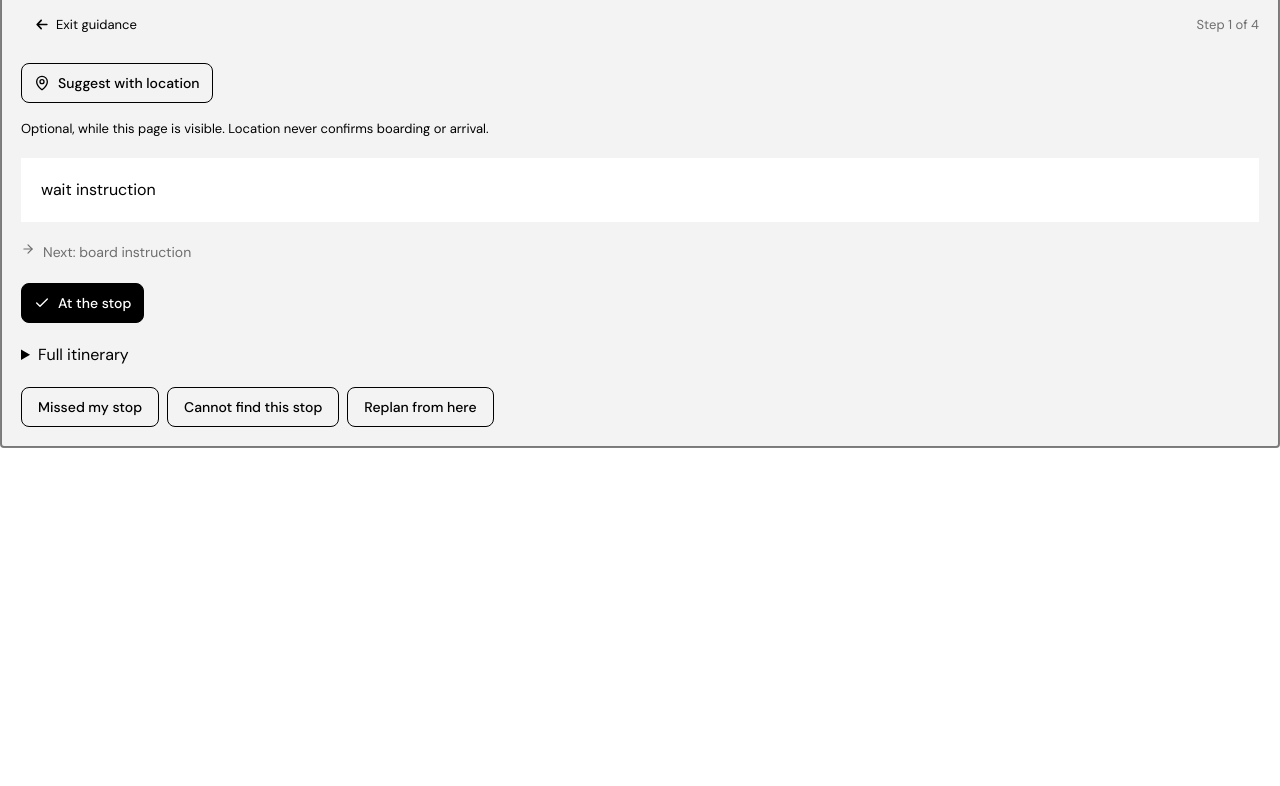
Test: Passenger-controlled guidance › does not move progress or fabricate a position after a missed stop
The width and height of the screenshot is (1280, 786).
Click the button "Missed my stop" at [90, 407], box [21, 387, 159, 427]
(page scrolled)
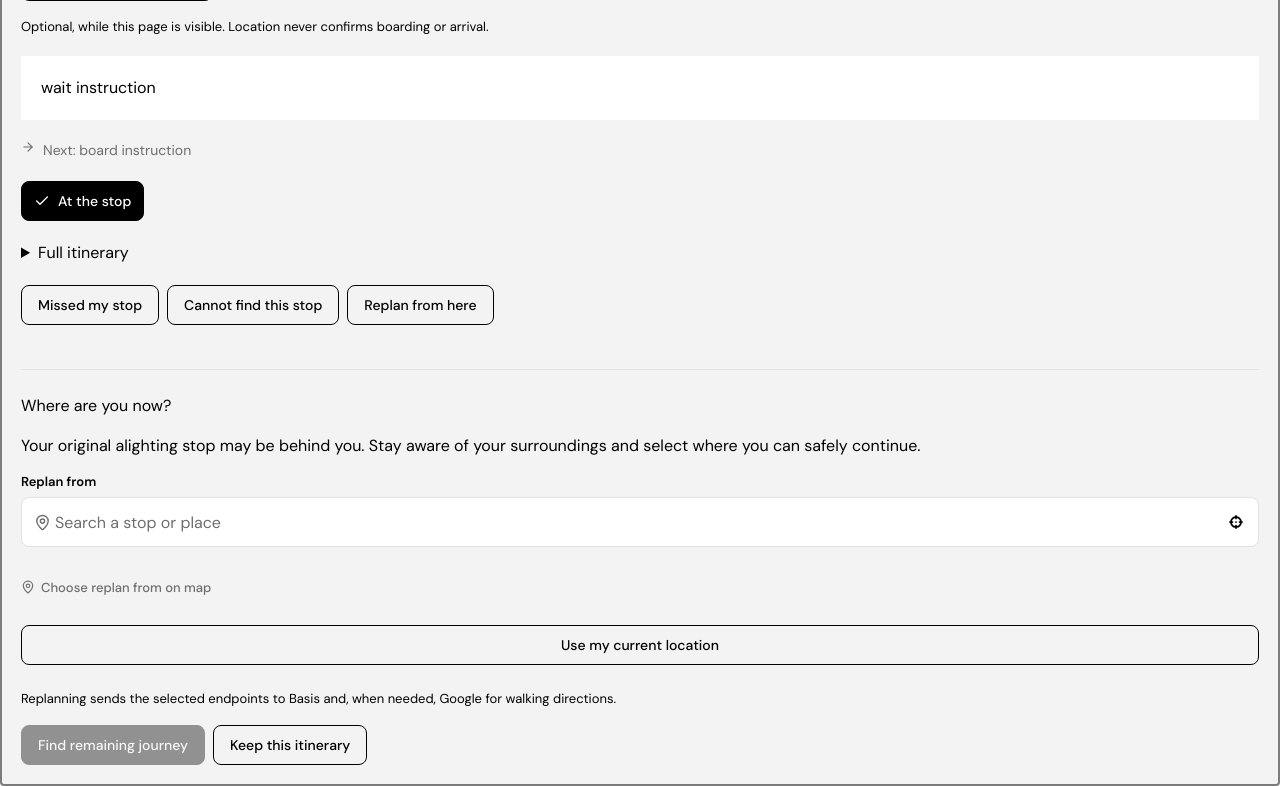
expect the button "At the stop" is shown: met, box [21, 181, 144, 221]
expect the button "Find remaining journey" is disabled: met, box [21, 725, 205, 765]
